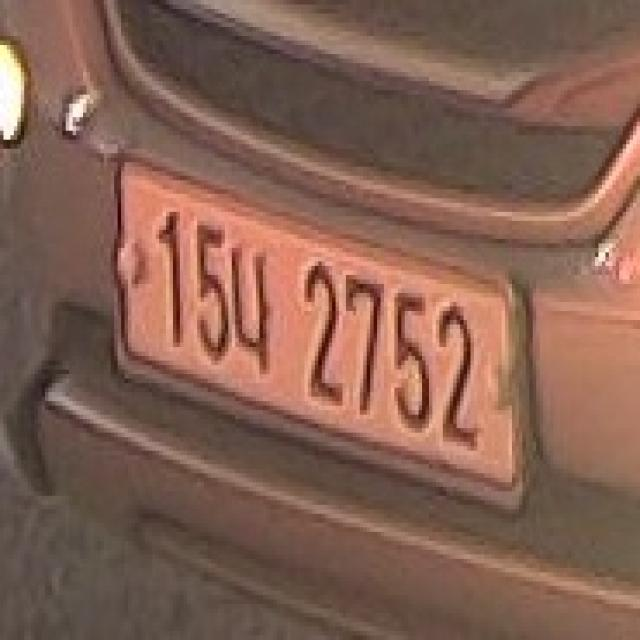1: (149, 189, 190, 370)
2: (432, 298, 481, 455), (301, 252, 342, 433)
5: (190, 207, 232, 392), (388, 275, 432, 442)
7: (342, 261, 384, 433)
license_plate: (107, 135, 536, 528)
na: (225, 230, 277, 401)
